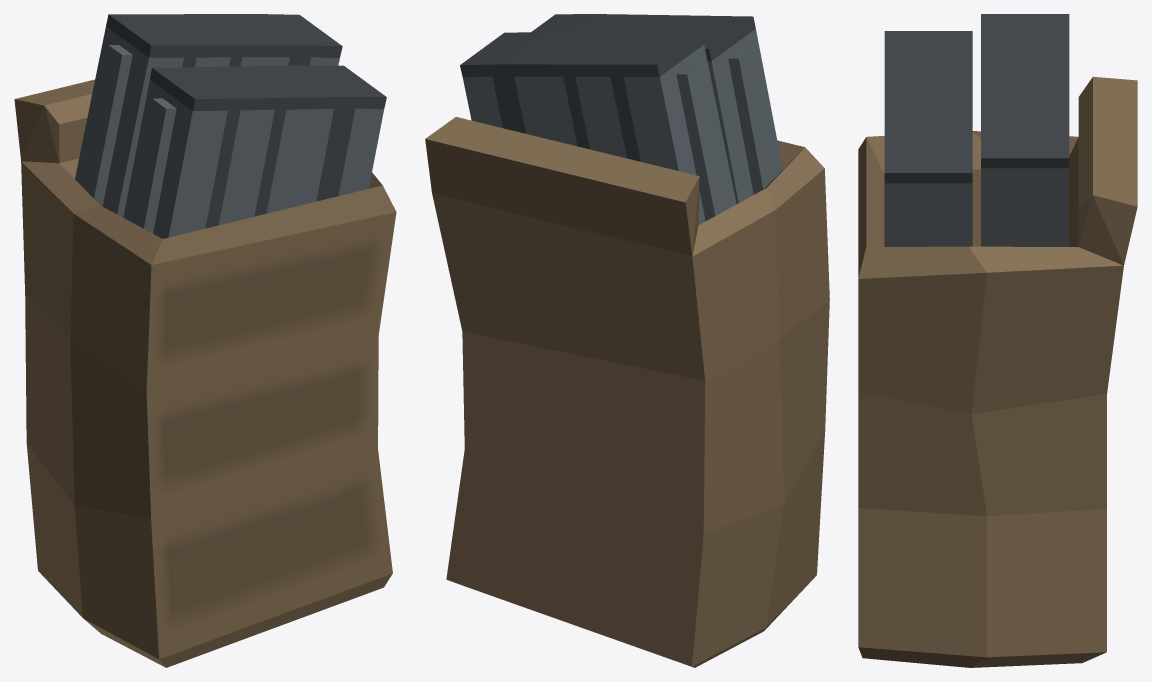
File: SM_Chr_Attach_Pouch_Mag_Double_01.fbx
The picture shows the model from 3 angles, left to right: view 1: azimuth 30°, elevation 25°; view 2: azimuth 150°, elevation 25°; view 3: azimuth 270°, elevation 25°; orthographic projection. The views are drawn at different scales.
Visible parts, largest first — view 1: SM_Chr_Attach_Pouch_Mag_Double_01; view 2: SM_Chr_Attach_Pouch_Mag_Double_01; view 3: SM_Chr_Attach_Pouch_Mag_Double_01.
Part boxes in pixels (x1,y1,x2,y2): SM_Chr_Attach_Pouch_Mag_Double_01: [14, 14, 396, 667]; SM_Chr_Attach_Pouch_Mag_Double_01: [425, 14, 829, 667]; SM_Chr_Attach_Pouch_Mag_Double_01: [858, 14, 1137, 667].
Bounding box in the file's own units: 11.35 × 21.78 × 9.41.
